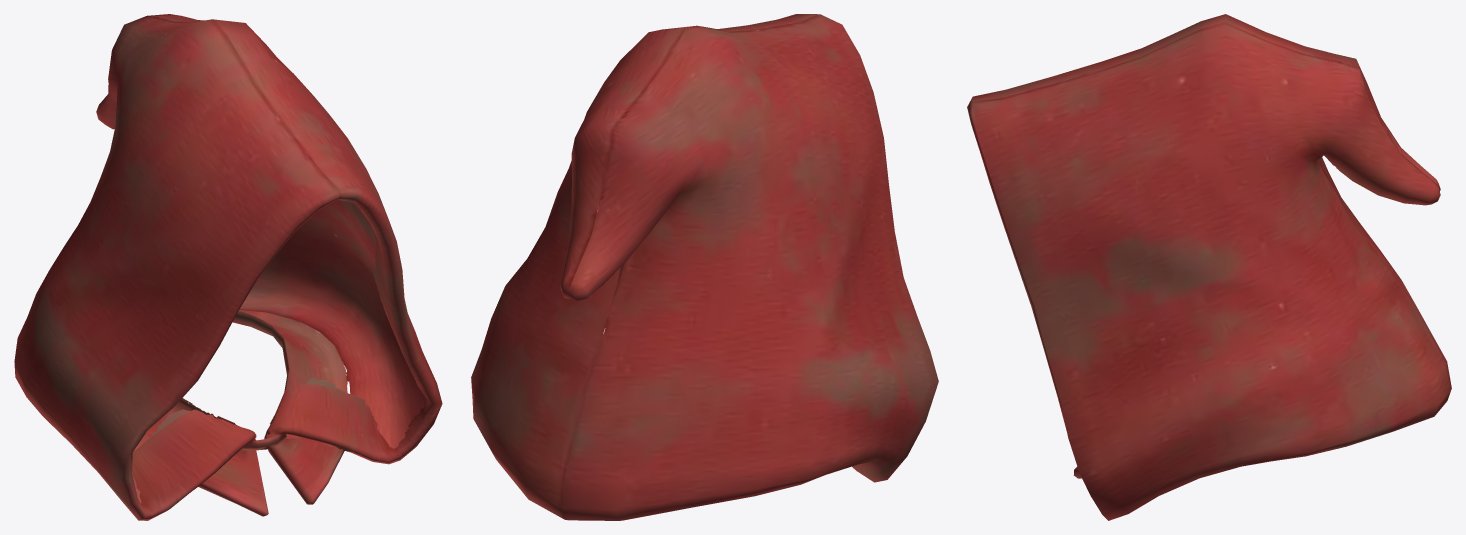
3 views of the same model, side by side, from view 1: azimuth 30°, elevation 25°; view 2: azimuth 150°, elevation 25°; view 3: azimuth 270°, elevation 25° (orthographic). The views are drawn at different scales.
Parts seen in each view (by area): view 1: SM_PropHood_LOD0; view 2: SM_PropHood_LOD0; view 3: SM_PropHood_LOD0.
Boxes of the visible parts, x1,y1,x2,y2 form: SM_PropHood_LOD0: [14, 14, 442, 520]; SM_PropHood_LOD0: [471, 14, 938, 520]; SM_PropHood_LOD0: [967, 14, 1451, 520].
Size of the model in its own units: 0.3208 by 0.3959 by 0.3928.
Materials: 1 (1 with a texture image).
